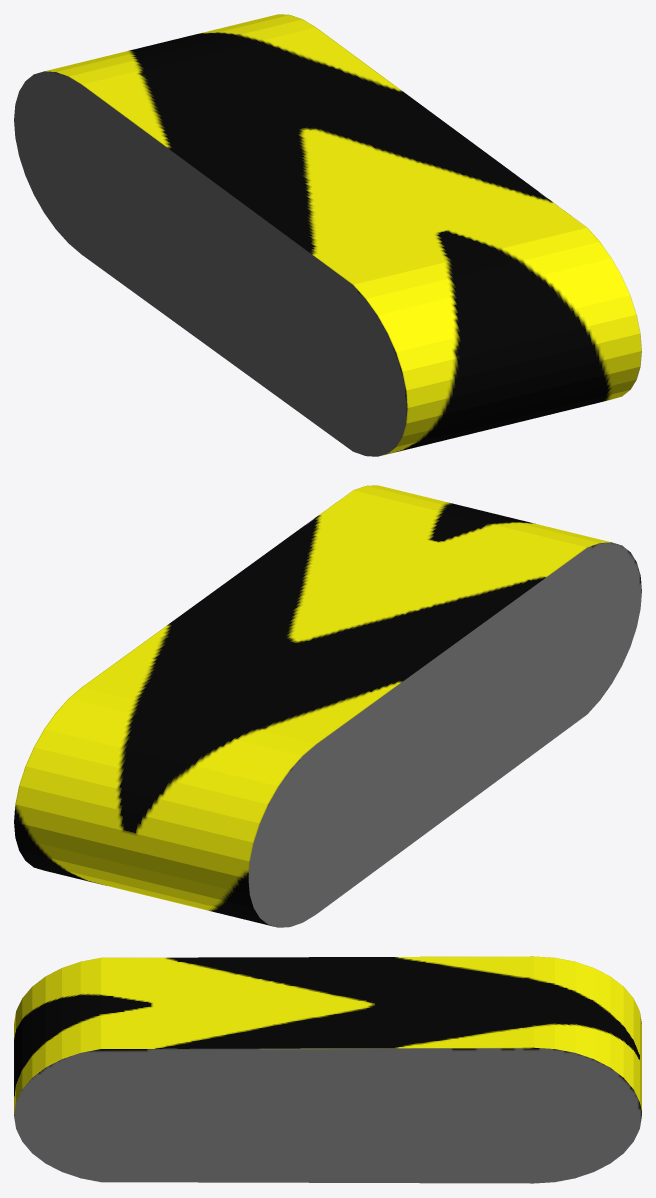
Rendered from ConveyorBelt.fbx.
3 views of the same model, one above another, from view 1: azimuth 30°, elevation 25°; view 2: azimuth 150°, elevation 25°; view 3: azimuth 270°, elevation 25° (orthographic). The views are drawn at different scales.
Visible parts, largest first — view 1: Cylinder; view 2: Cylinder; view 3: Cylinder.
Boxes of the visible parts, x1,y1,x2,y2 form: Cylinder: [14, 14, 641, 456]; Cylinder: [14, 485, 641, 927]; Cylinder: [14, 956, 641, 1183].
Bounding box in the file's own units: 200 × 139 × 581.
Materials: 1 (1 with a texture image).
